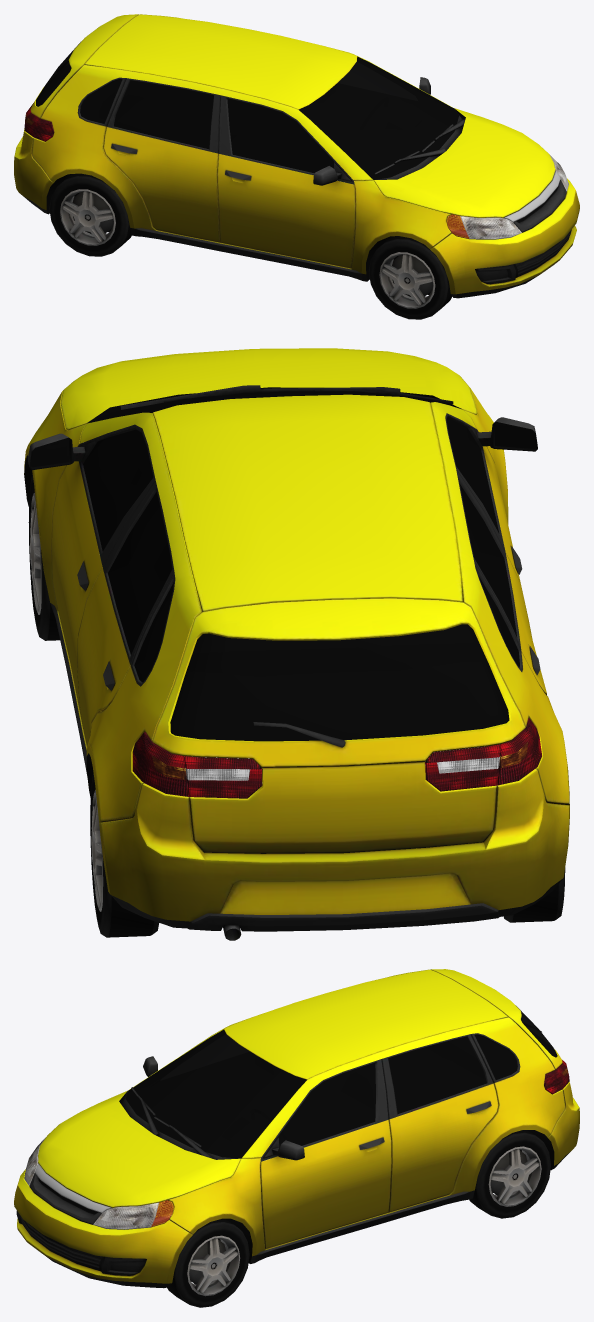
The model's file is pack_hatchback.glb.
3 renders of one model, top to bottom at view 1: azimuth 30°, elevation 25°; view 2: azimuth 150°, elevation 25°; view 3: azimuth 270°, elevation 25°, orthographic. The views are drawn at different scales.
Visible parts, largest first — view 1: Hatchback Body_Body_0, Hatchback Body_Glass_0, Wheel_B_Wheek_0, Hatchback Body_Optics_0; view 2: Hatchback Body_Body_0, Hatchback Body_Glass_0, Hatchback Body_Optics_0, Wheel_B_Wheek_0; view 3: Hatchback Body_Body_0, Hatchback Body_Glass_0, Wheel_B_Wheek_0, Hatchback Body_Optics_0.
Part boxes in pixels (x1,y1,x2,y2): Hatchback Body_Body_0: (14,14,579,298); Hatchback Body_Glass_0: (36,42,458,179); Wheel_B_Wheek_0: (49,173,452,319); Hatchback Body_Optics_0: (24,103,568,239); Hatchback Body_Body_0: (24,348,569,940); Hatchback Body_Glass_0: (83,391,519,741); Hatchback Body_Optics_0: (132,718,541,798); Wheel_B_Wheek_0: (28,473,565,937); Hatchback Body_Body_0: (14,969,579,1288); Hatchback Body_Glass_0: (125,1006,557,1158); Wheel_B_Wheek_0: (167,1130,550,1307); Hatchback Body_Optics_0: (24,1060,569,1229).
Size of the model in its own units: 3.11 by 1.35 by 3.7.
4 materials, 3 textured.
